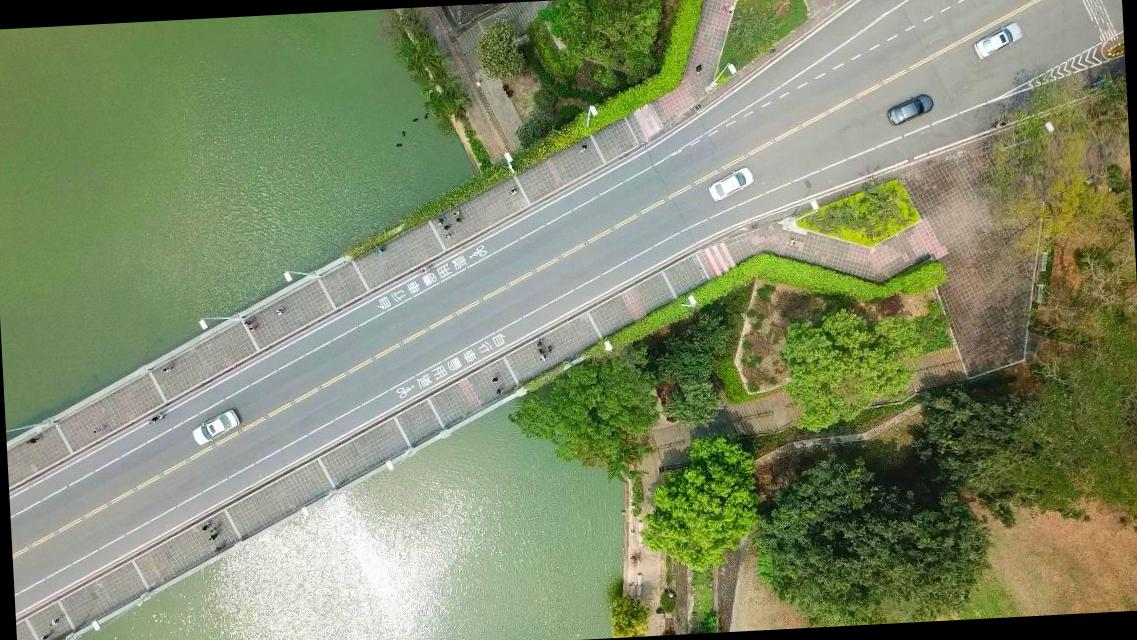vehicle: (971, 20, 1024, 60), (189, 408, 240, 446), (706, 166, 754, 202), (884, 94, 934, 127)
